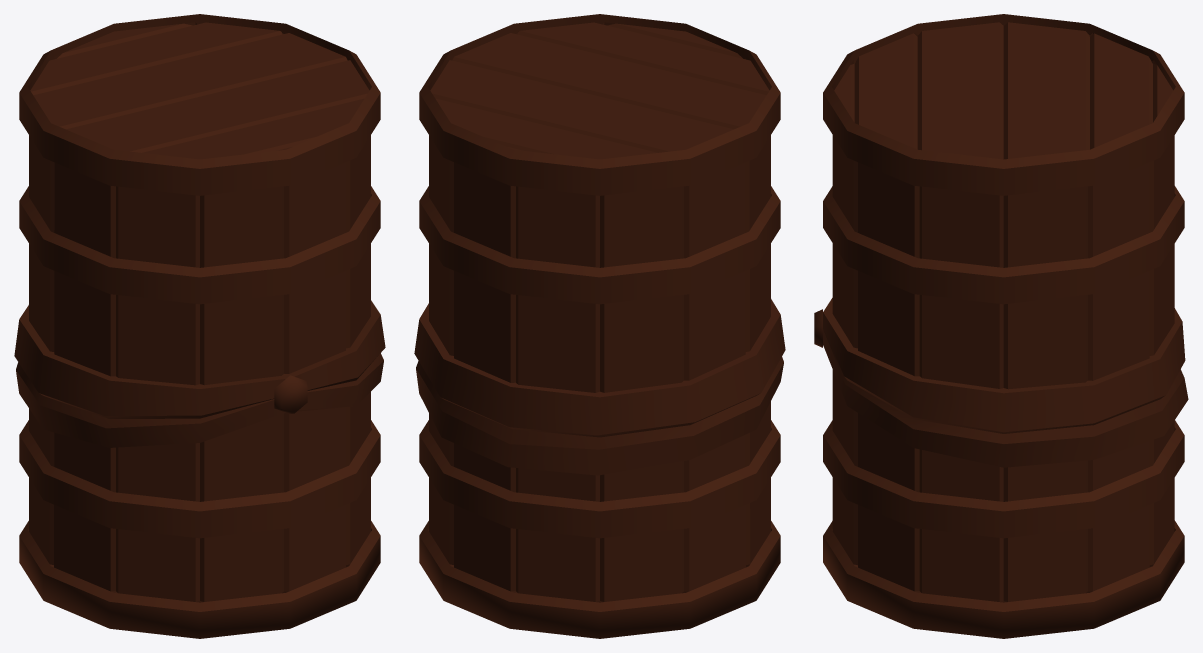
The model's file is barrel01.fbx.
The picture shows the model from 3 angles, left to right: view 1: azimuth 30°, elevation 25°; view 2: azimuth 150°, elevation 25°; view 3: azimuth 270°, elevation 25°; orthographic projection.
Visible parts, largest first — view 1: barrel01; view 2: barrel01; view 3: barrel01.
Part boxes in pixels (box(x1,y1,x2,y2)): barrel01: box(14, 14, 385, 638); barrel01: box(414, 14, 785, 638); barrel01: box(814, 14, 1188, 638).
Size of the model in its own units: 69.29 by 97.6 by 69.54.
